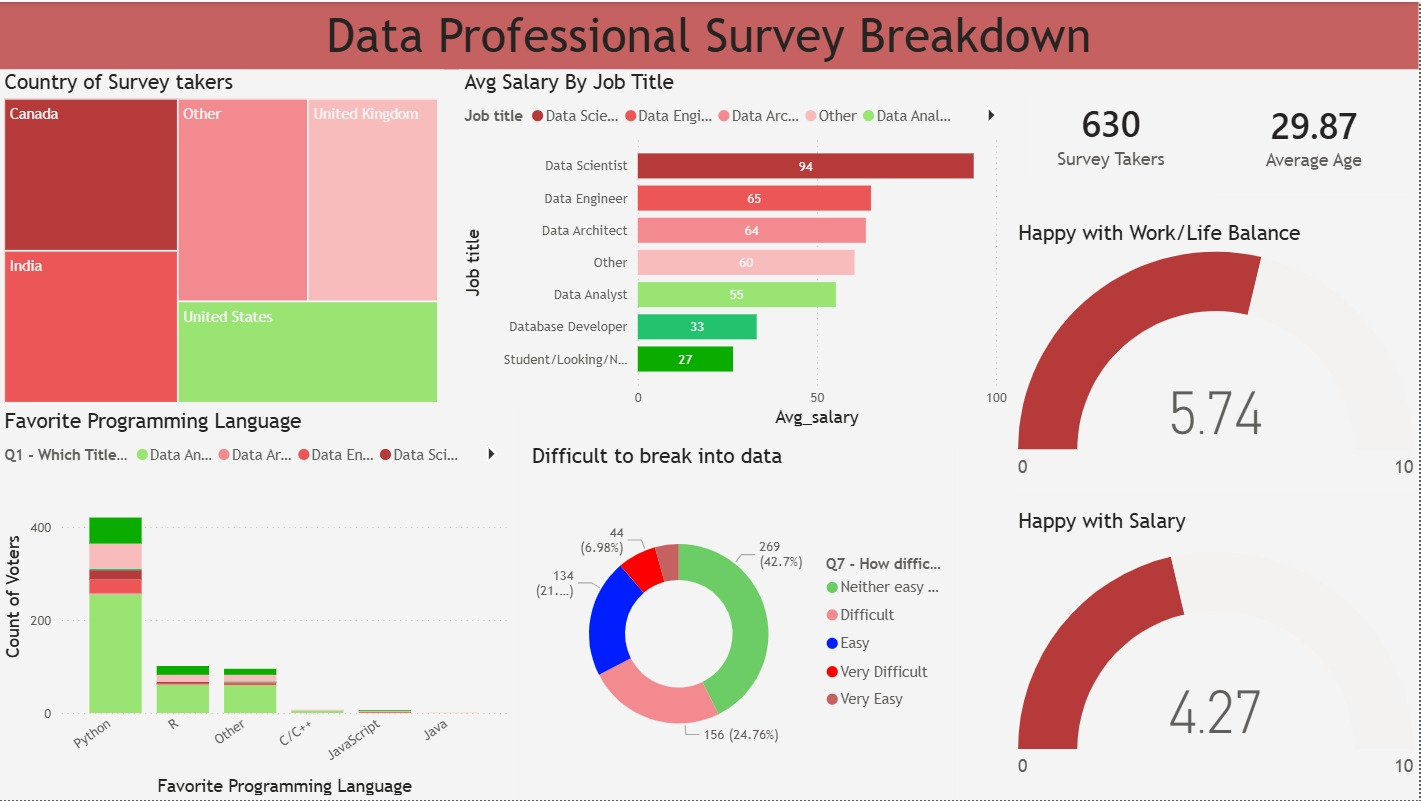

This screenshot's page, from the dashboard's own definition file:
{"tool":"powerbi","page":{"name":"Page 1","canvas":[1280,720],"ordinal":0},"visuals":[{"type":"textbox","box":[0,0,1280.3,60.5],"z":0},{"type":"cardVisual","fields":{"Data":["Count(Data Professional Survey.Unique ID)"]},"box":[914.1,60.5,177.1,116.5],"z":1000},{"type":"cardVisual","fields":{"Data":["Avg(Data Professional Survey.Q10 - Current Age)"]},"box":[1091.1,60.5,189.2,118],"z":1001},{"type":"barChart","title":"Avg Salary By Job Title","fields":{"Category":["Data Professional Survey.Q1 - Which Title Best Fits your Current Role?.1"],"Y":["Avg(Data Professional Survey.Avg_salary)"],"Series":["Data Professional Survey.Q1 - Which Title Best Fits your Current Role?.1"]},"box":[414.7,60.5,499.4,326.9],"z":1002},{"type":"columnChart","title":"Favorite Programming Language","fields":{"Category":["Data Professional Survey.Q5 - Favorite Programming Language.1"],"Y":["CountNonNull(Data Professional Survey.Unique ID)"],"Series":["Data Professional Survey.Q1 - Which Title Best Fits your Current Role?.1"]},"box":[0,366.2,463.1,354.1],"z":1003},{"type":"treemap","title":"Country of Survey takers","fields":{"Group":["Data Professional Survey.Q11 - Which Country do you live in?.1"],"Values":["Count(Data Professional Survey.Q11 - Which Country do you live in?.1)"]},"box":[0,60.5,401,305.7],"z":1004},{"type":"gauge","title":"Happy with Work/Life Balance","fields":{"Y":["Avg(Data Professional Survey.Q6 - How Happy are you in your Current Position with the following? (Work/Life Balance))"],"MinValue":["Min(Data Professional Survey.Q6 - How Happy are you in your Current Position with the following? (Work/Life Balance))"],"MaxValue":["Max(Data Professional Survey.Q6 - How Happy are you in your Current Position with the following? (Work/Life Balance))1"]},"box":[914.1,197.2,366.3,241.2],"z":1005},{"type":"gauge","title":"Happy with Salary","fields":{"Y":["Avg(Data Professional Survey.Q6 - How Happy are you in your Current Position with the following? (Salary))"],"MinValue":["Min(Data Professional Survey.Q6 - How Happy are you in your Current Position with the following? (Salary))"],"MaxValue":["Max(Data Professional Survey.Q6 - How Happy are you in your Current Position with the following? (Salary))"]},"box":[914.1,457,366.2,263.3],"z":1006},{"type":"donutChart","title":"Difficult to break into data","fields":{"Category":["Data Professional Survey.Q7 - How difficult was it for you to break into Data?"],"Y":["CountNonNull(Data Professional Survey.Q7 - How difficult was it for you to break into Data?)"]},"box":[475.2,398,388.9,322.3],"z":1007}]}

Visuals, with their boxes in screenshot pixels (x1, y1, x2, y2), scaled from the page's 1280x720 canvas onto the 1421x801 screenshot:
textbox: (0, 0, 1420, 67)
cardVisual - Count(Data Professional Survey.Unique ID): (1015, 67, 1211, 197)
cardVisual - Avg(Data Professional Survey.Q10 - Current Age): (1211, 67, 1420, 199)
"Avg Salary By Job Title" barChart: (460, 67, 1015, 431)
"Favorite Programming Language" columnChart: (0, 407, 514, 800)
"Country of Survey takers" treemap: (0, 67, 445, 407)
"Happy with Work/Life Balance" gauge: (1015, 219, 1420, 488)
"Happy with Salary" gauge: (1015, 508, 1420, 800)
"Difficult to break into data" donutChart: (528, 443, 959, 800)
